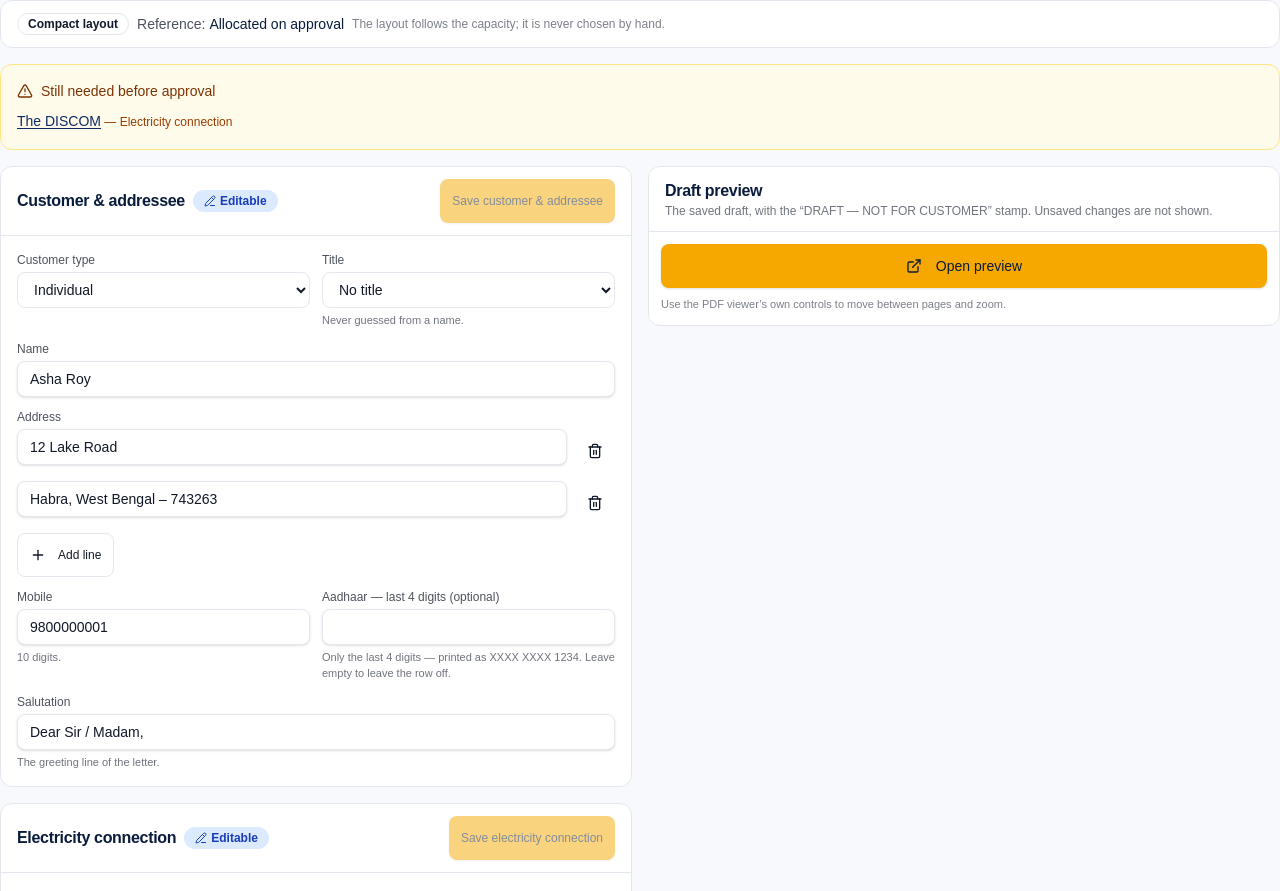
Test: server errors land on the right field › {"name":"ApiError","status":403,"detail":"x","structuredDetail":{"code":"field_not_editable","message":"x","field":"addressee"}} → section message
In the field labelled "Name": x=316, y=378 [17,360,615,396], type "x"
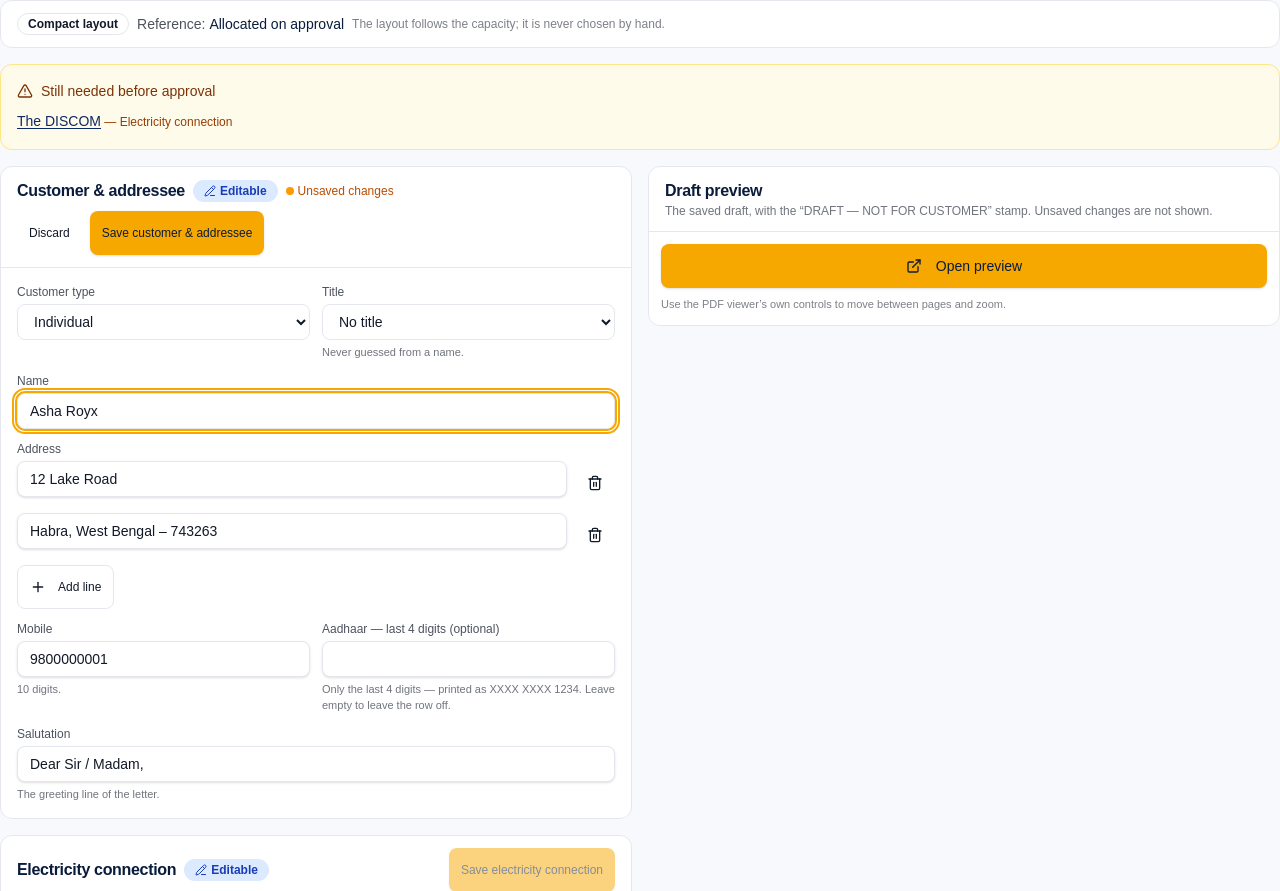
Click the button "Save customer & addressee": x=177, y=233 [90,211,264,255]
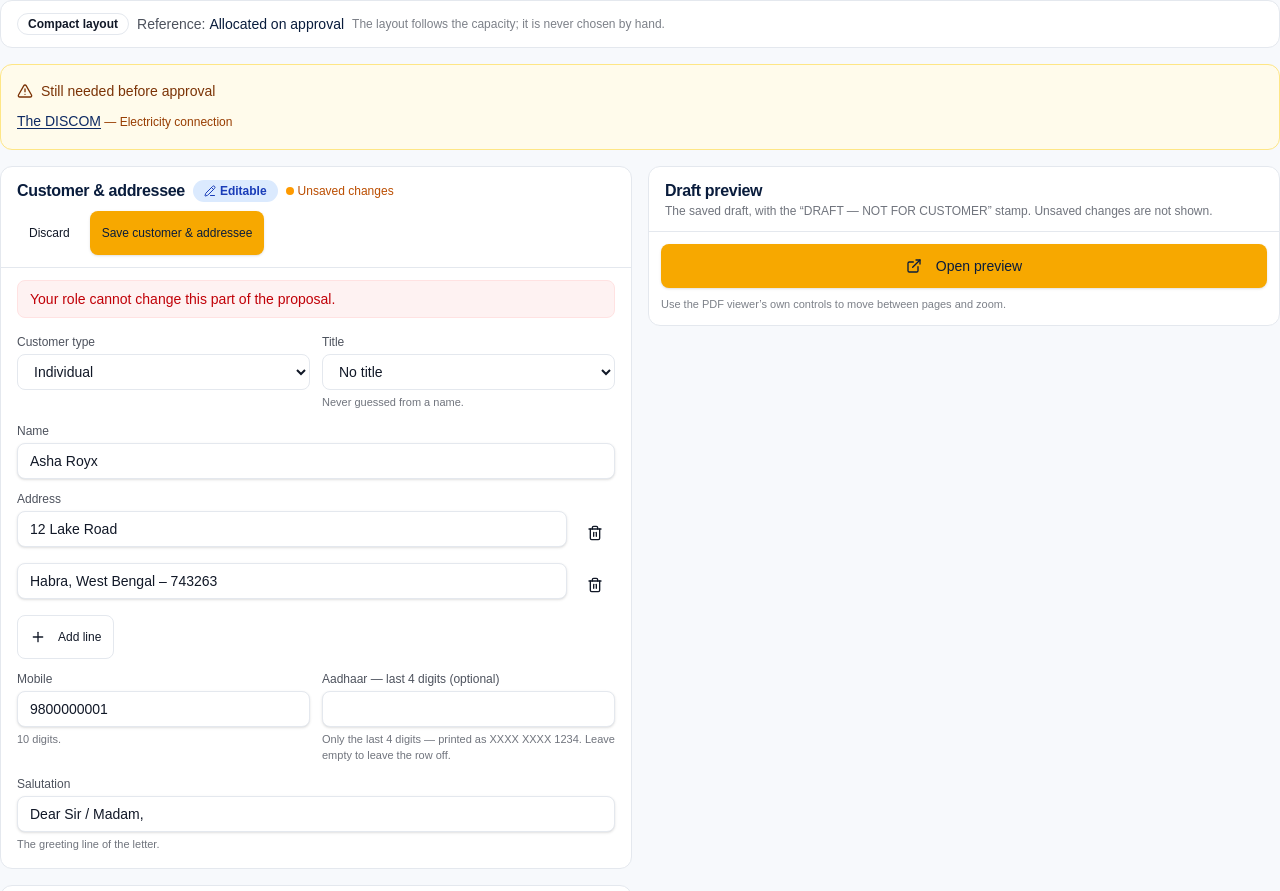
Result: the text "Your role cannot change this part of the proposal." is shown at [17,280,615,318]
